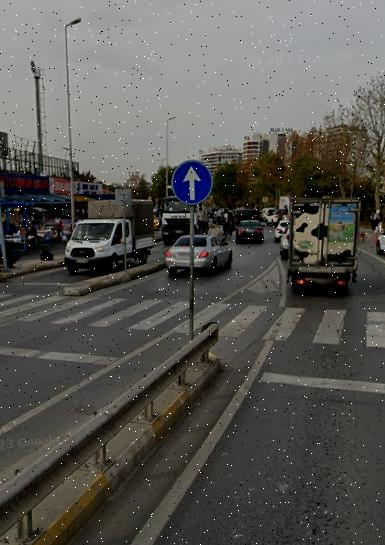forward: (166, 153, 216, 211)
